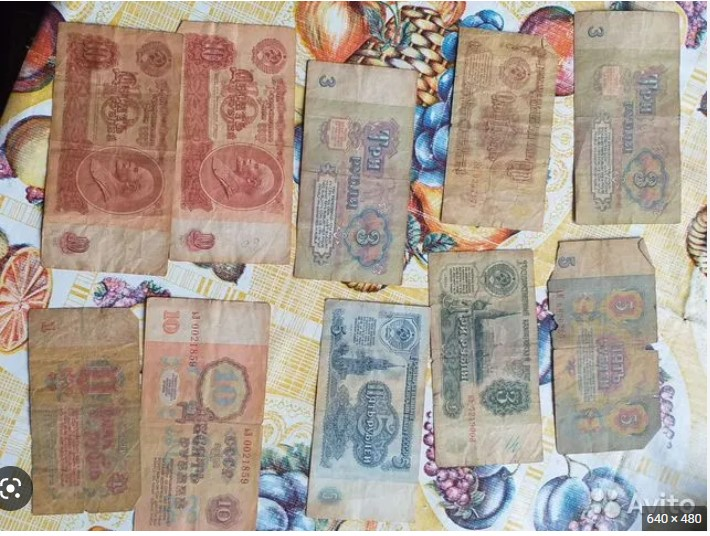cash: (37, 21, 183, 275), (133, 298, 271, 536), (169, 21, 295, 263), (292, 59, 417, 285), (306, 296, 431, 519), (428, 248, 544, 469), (27, 306, 143, 514), (549, 237, 659, 454), (440, 26, 556, 231), (573, 11, 683, 225)
